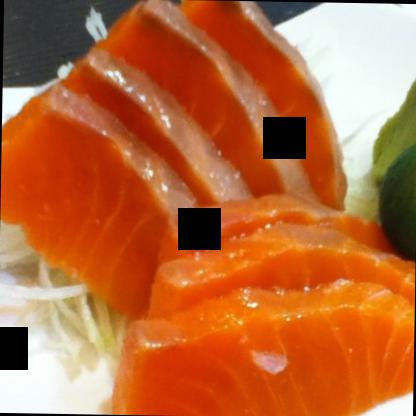salmon: (129, 203, 410, 415), (0, 82, 217, 317), (98, 0, 311, 206), (169, 0, 348, 225), (41, 52, 246, 232)
